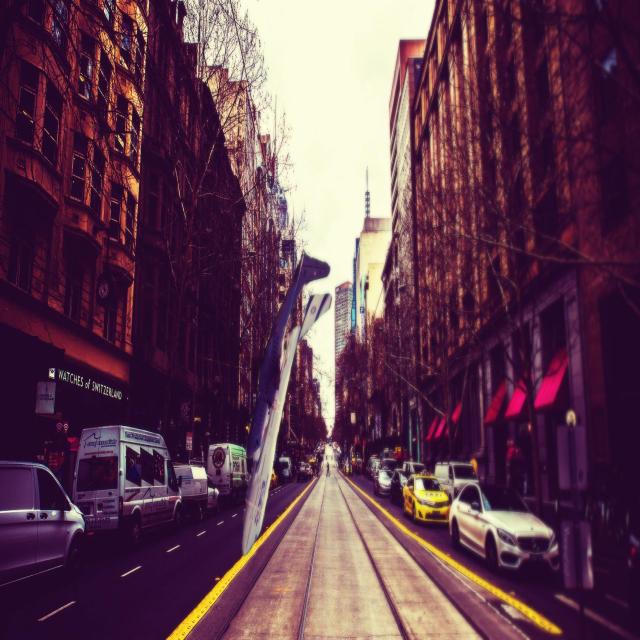airplane: (241, 250, 332, 556)
